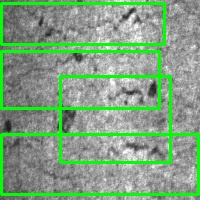crazing: (1, 134, 198, 194), (60, 76, 170, 162), (1, 51, 159, 108), (1, 3, 164, 44)
